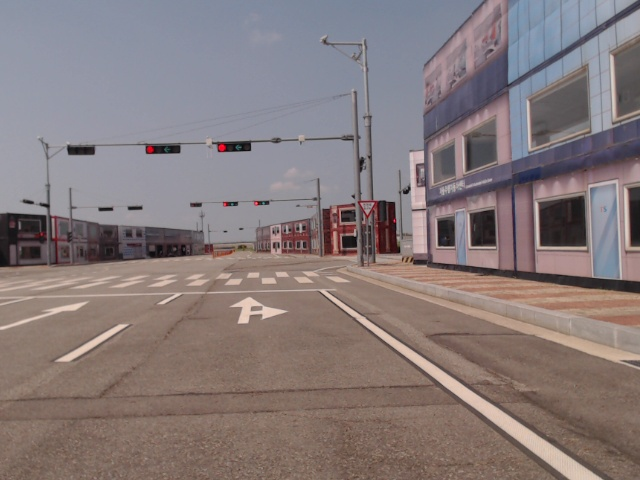left_green_4: (146, 146, 180, 154), (218, 144, 251, 152), (224, 202, 238, 206), (255, 201, 269, 205)
